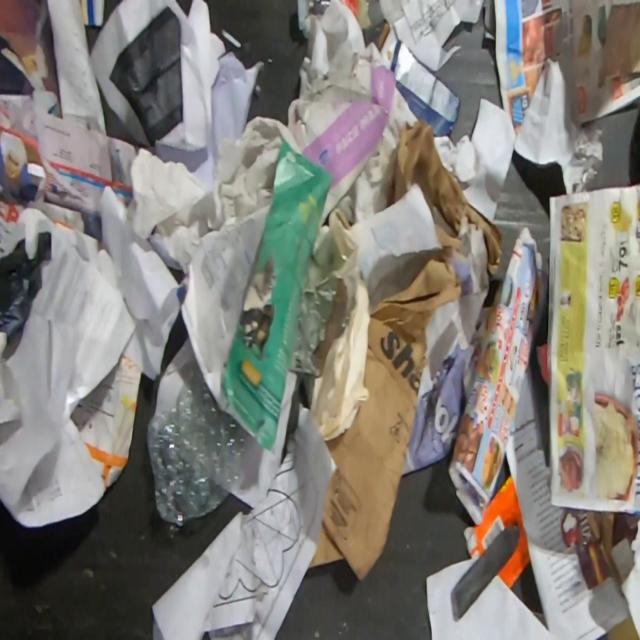cardboard: (65, 350, 142, 488), (375, 17, 462, 139)
rigid_plastic: (147, 367, 259, 524), (288, 274, 347, 376), (296, 0, 416, 31)
